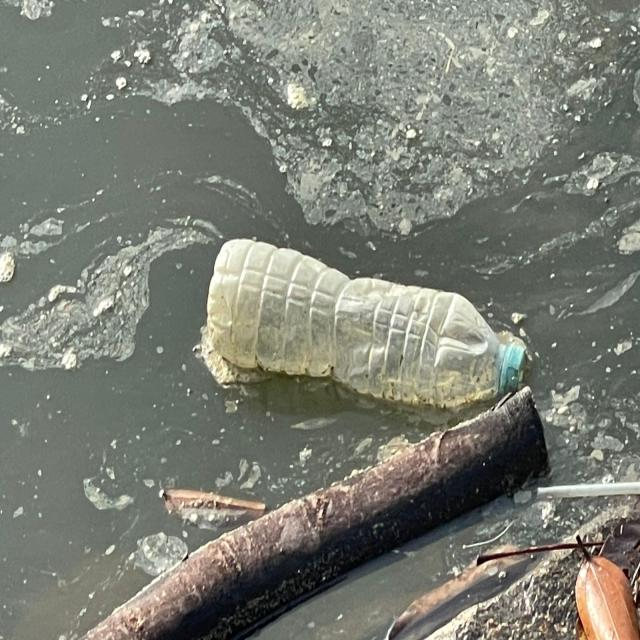Botol Plastik: (193, 233, 536, 417)
